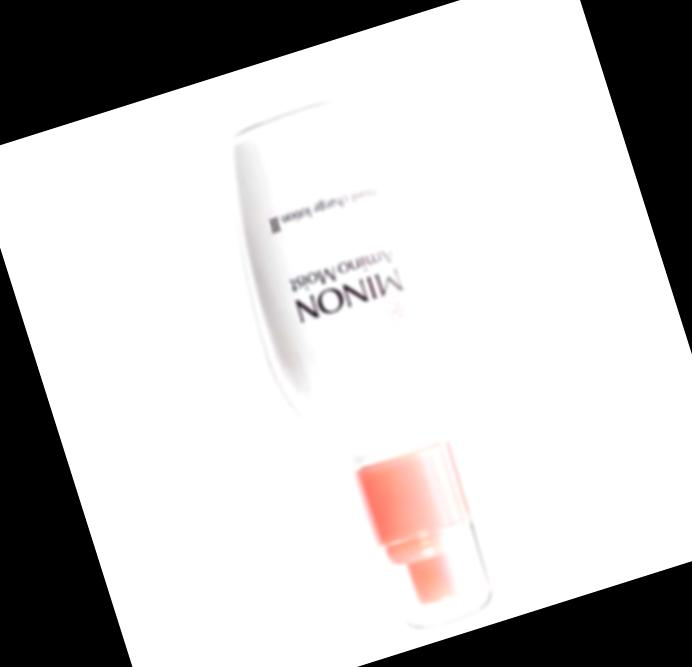cosmetic: (195, 78, 548, 656)
